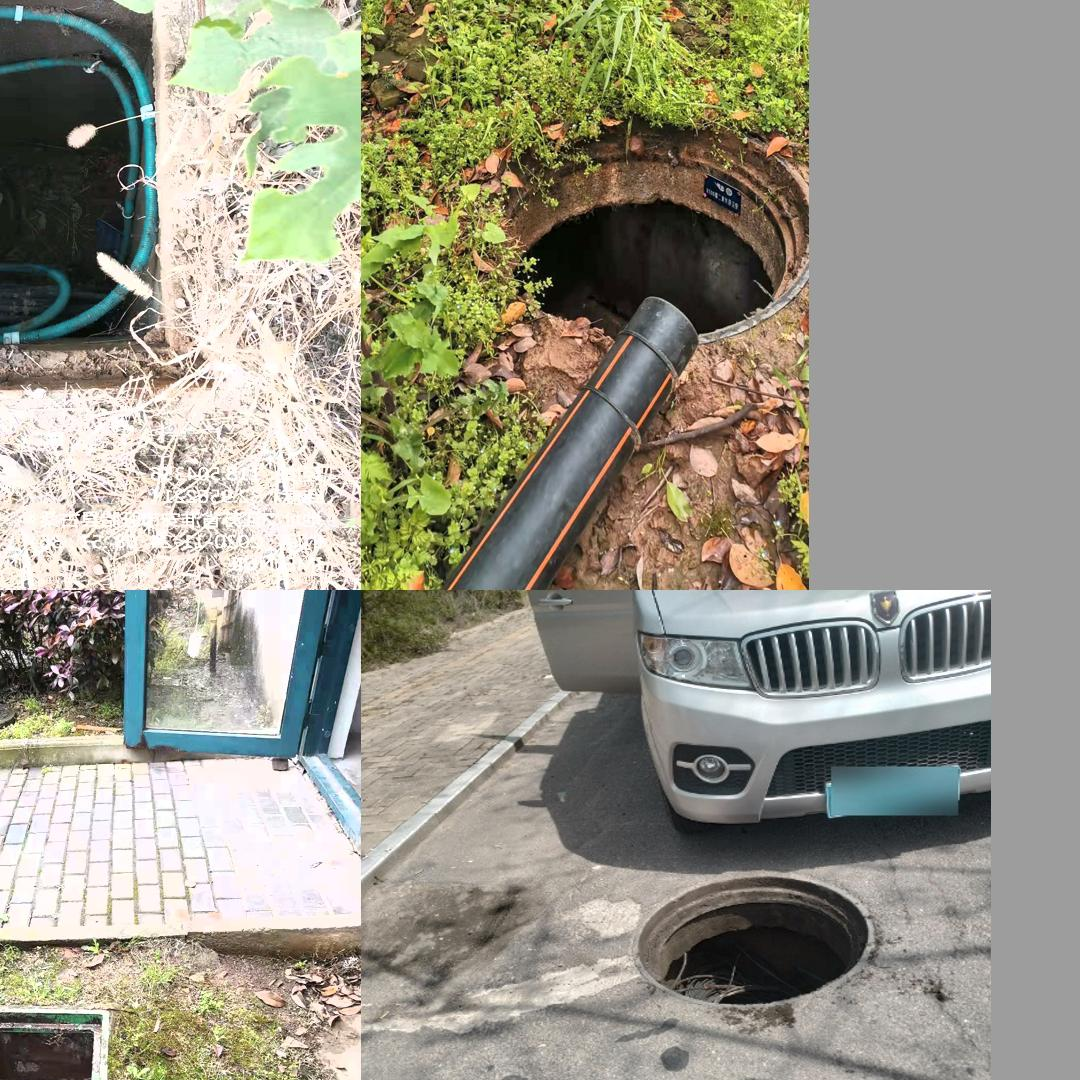lose: (0, 0, 199, 391), (480, 119, 807, 347), (631, 860, 885, 1012), (0, 1003, 113, 1080)
